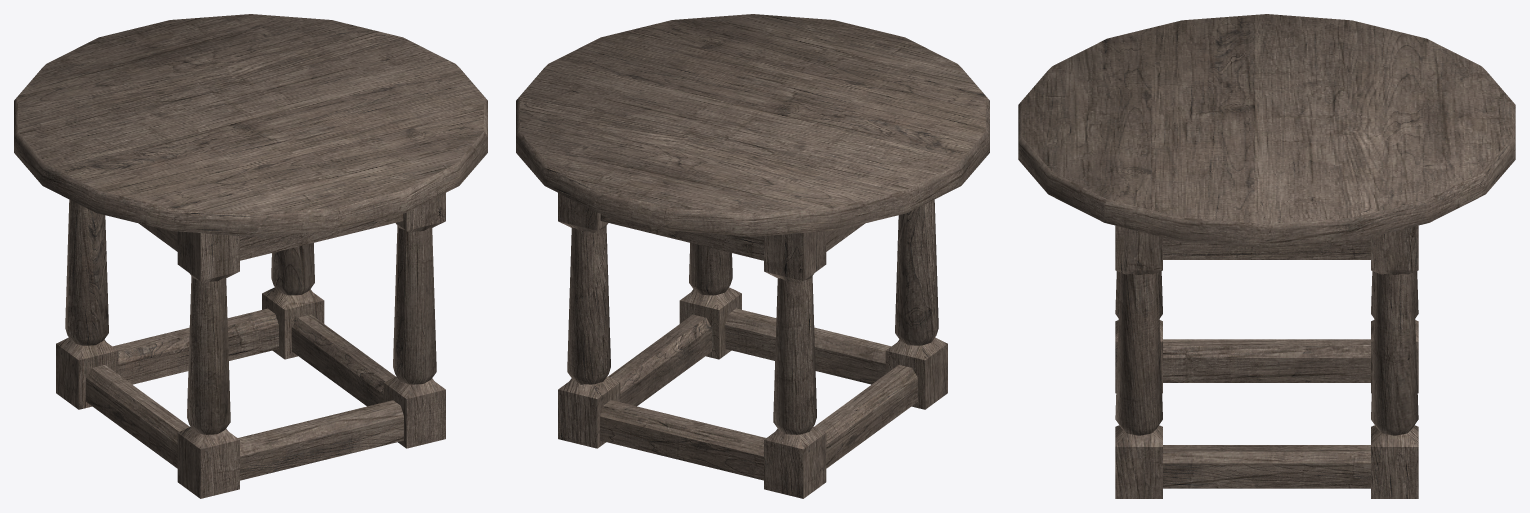
Rendered from mw_table_05.FBX.
3 views of the same model, side by side, from view 1: azimuth 30°, elevation 25°; view 2: azimuth 150°, elevation 25°; view 3: azimuth 270°, elevation 25° (orthographic). The views are drawn at different scales.
Parts seen in each view (by area): view 1: mw_table_05; view 2: mw_table_05; view 3: mw_table_05.
Part boxes in pixels (x1=…): mw_table_05: x1=14, y1=14, x2=487, y2=498; mw_table_05: x1=516, y1=14, x2=989, y2=498; mw_table_05: x1=1018, y1=14, x2=1515, y2=498.
Bounding box in the file's own units: 153 × 106 × 151.
